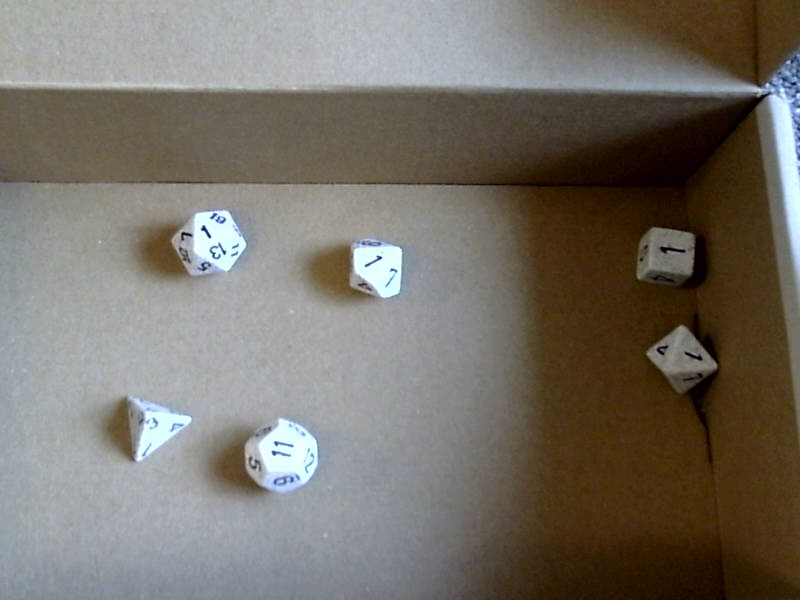d10 1: (342, 235, 406, 306)
d12 11: (237, 415, 320, 498)
d20 1: (161, 201, 251, 286)
d4 3: (111, 391, 197, 470)
d6 1: (630, 225, 699, 290)
d8 1: (638, 320, 726, 398)
